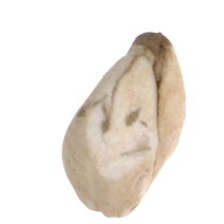L1: (133, 28, 172, 60)
L2: (59, 30, 186, 218)
